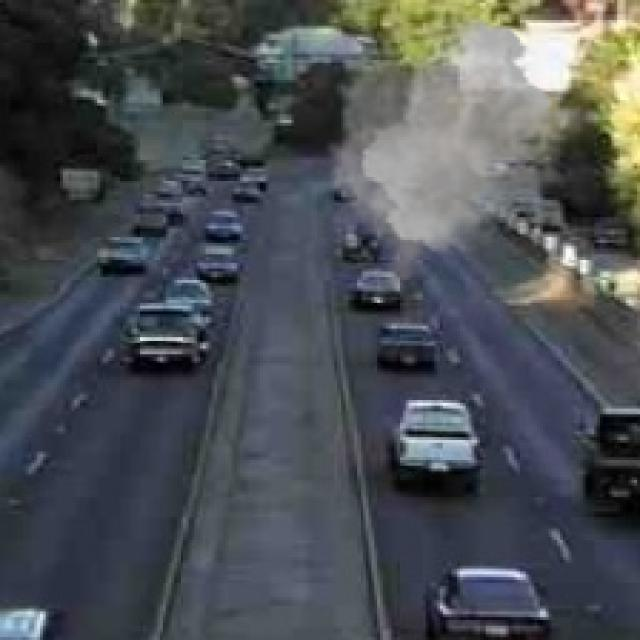smoke: (323, 12, 606, 292)
